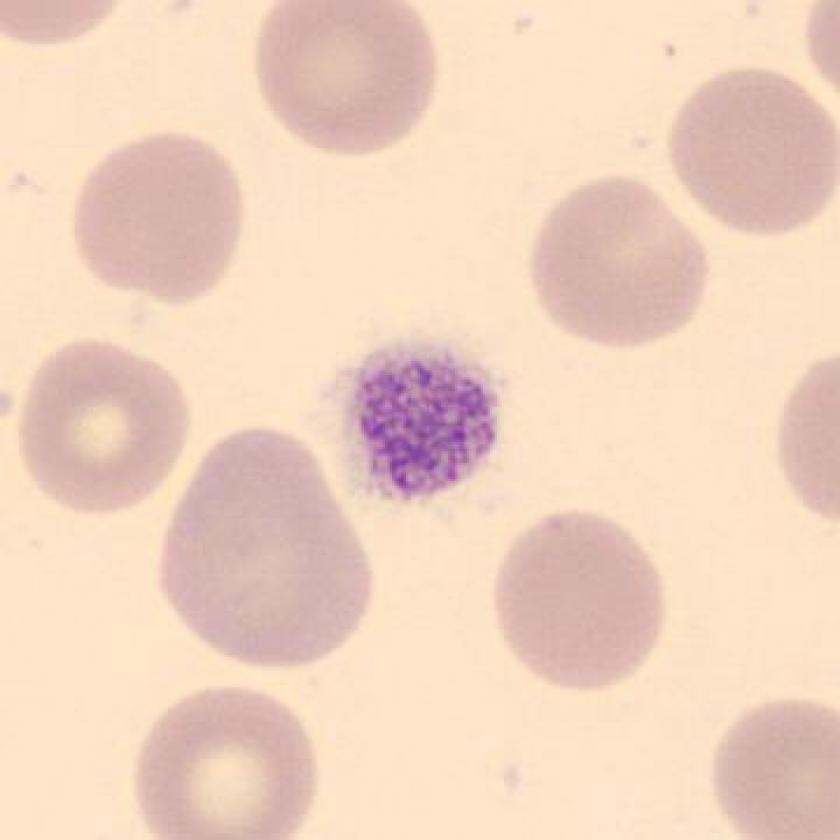platelets: (319, 321, 522, 520)
